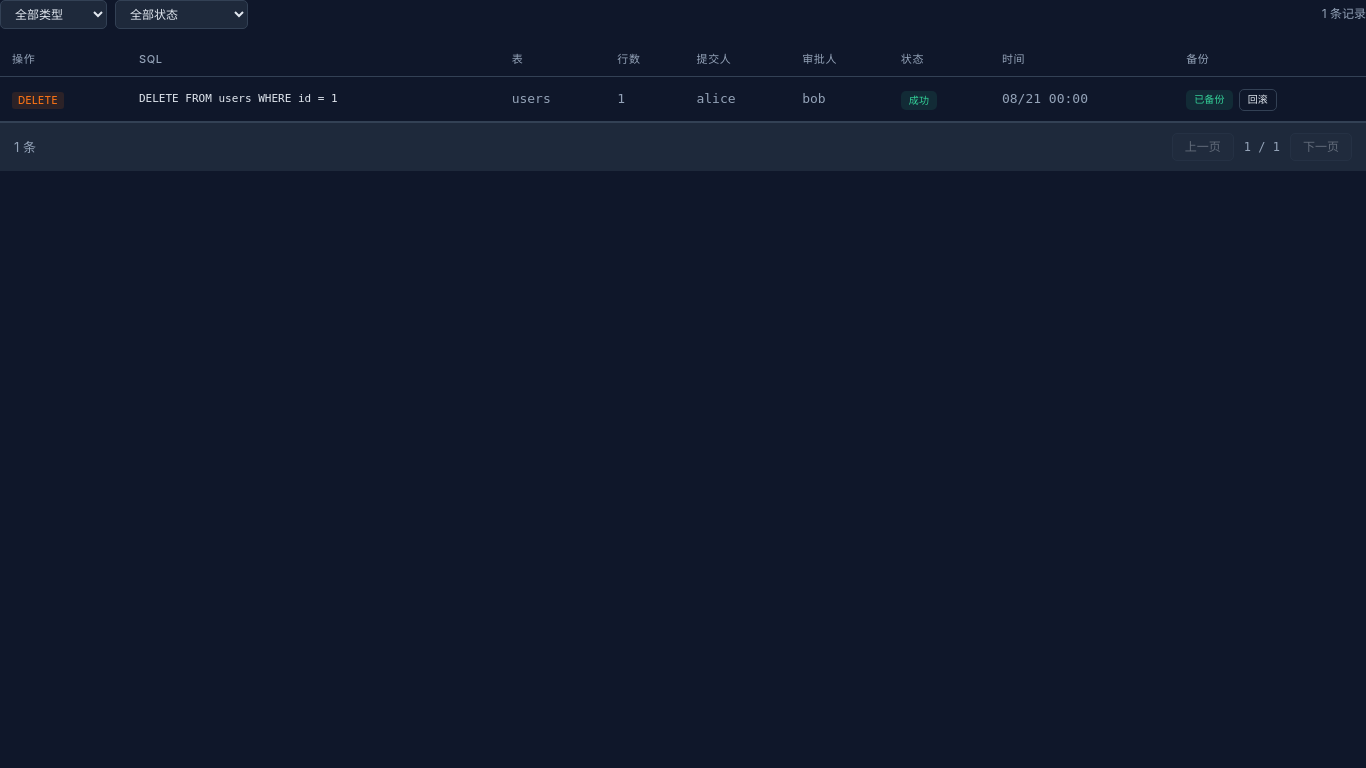
Test case: OperationLog rollback › does not report success when the reverse backup is missing
The image size is (1366, 768).
Click the button "回滚" at [1258, 100], box x1=1239 y1=89 x2=1277 y2=110
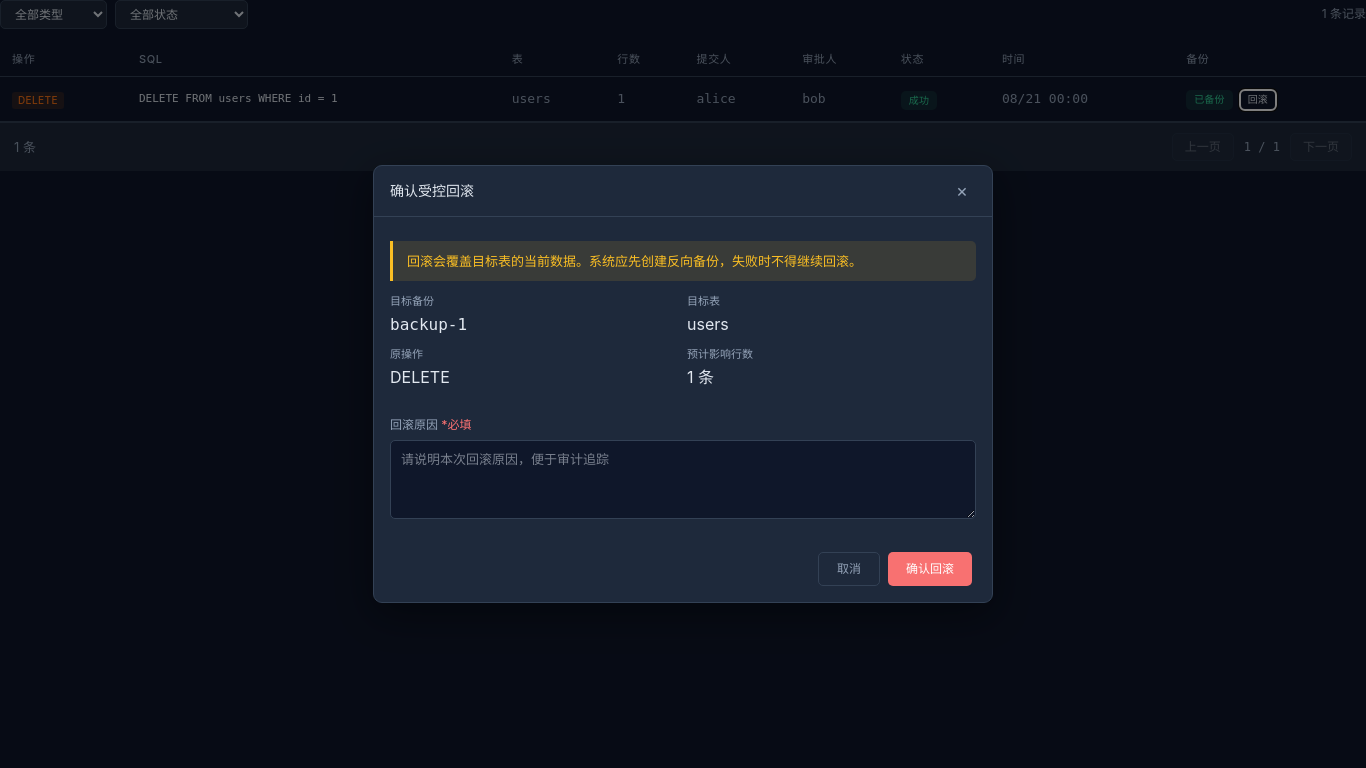
Type "发现错误数据" into the text box with placeholder "请说明本次回滚原因，便于审计追踪" at [683, 480], box x1=390 y1=440 x2=976 y2=519
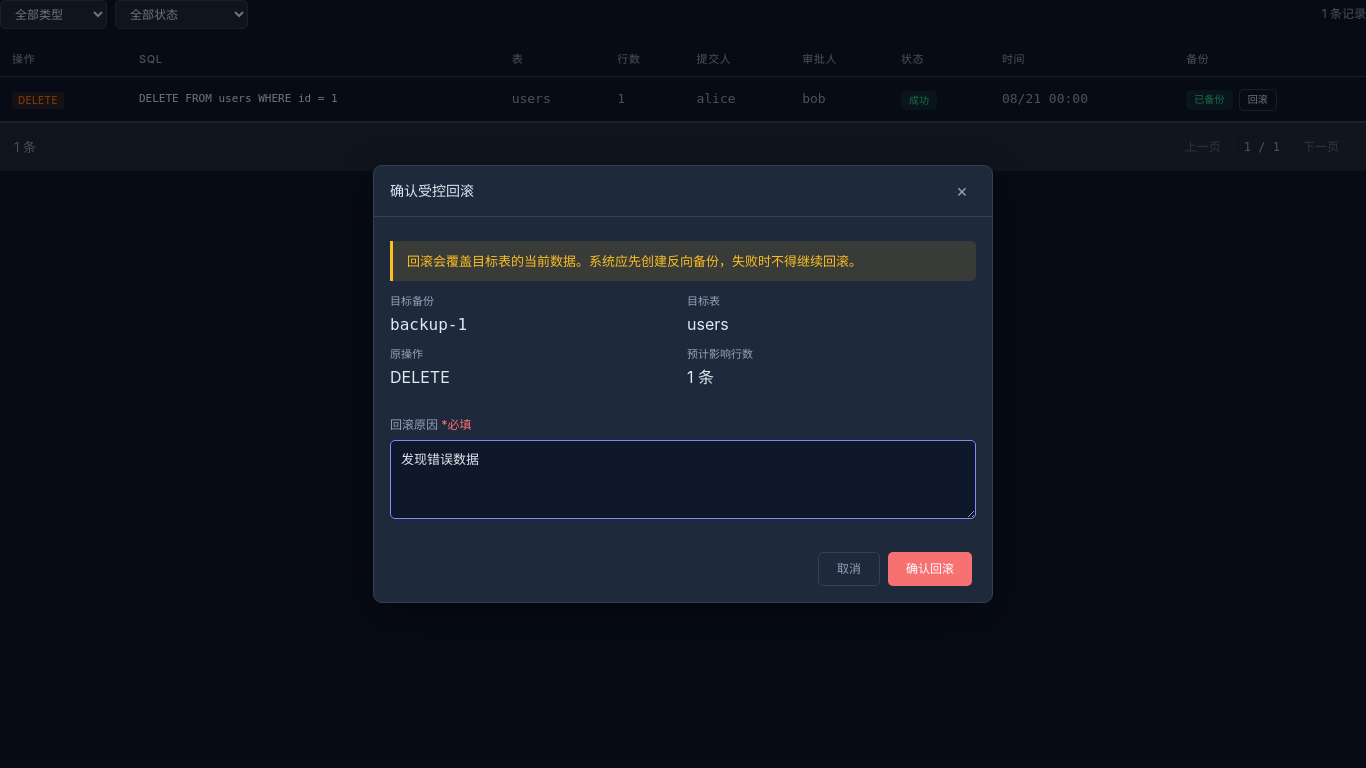
Click the button "确认回滚" at [930, 569], box x1=888 y1=552 x2=972 y2=586
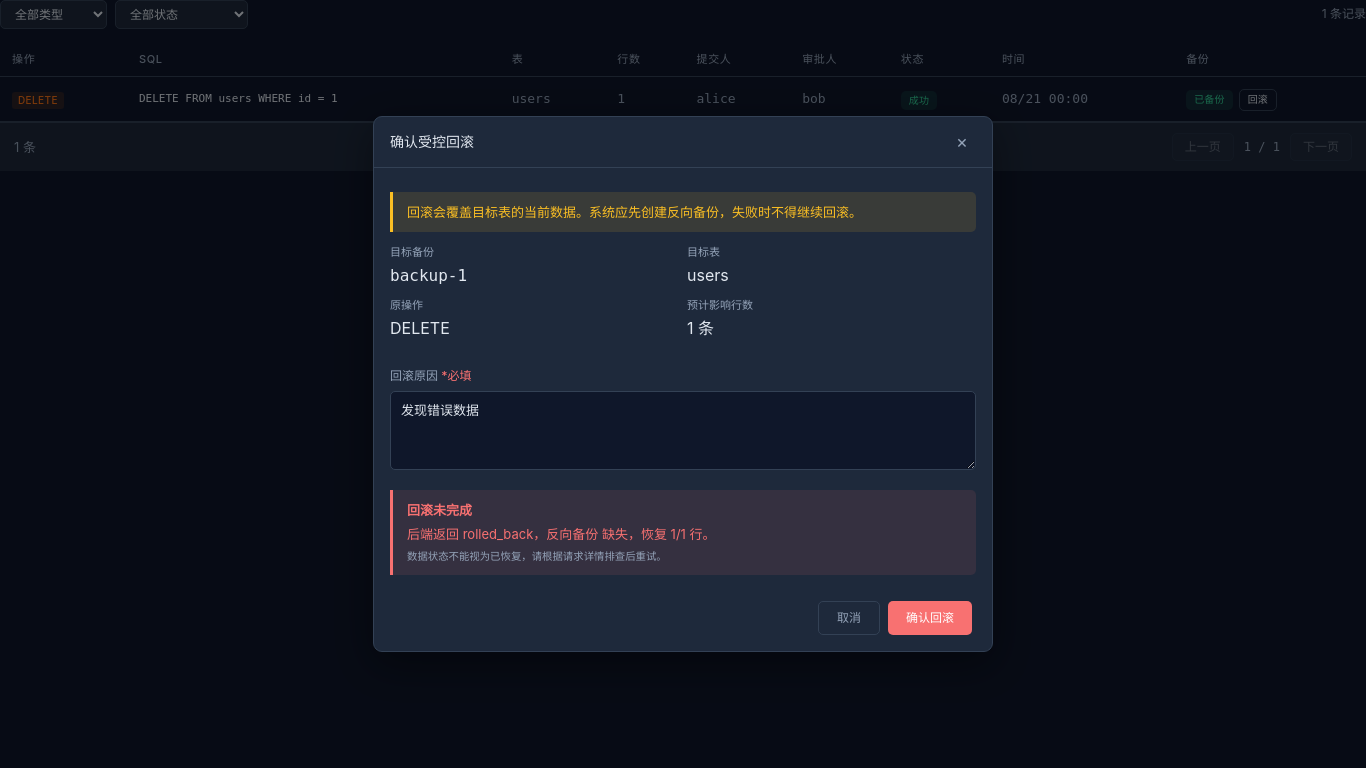
Now the text "回滚未完成" is shown, box x1=407 y1=502 x2=472 y2=518
Now the text "后端返回 rolled_back，反向备份 缺失，恢复 1/1 行。" is shown, box x1=407 y1=526 x2=716 y2=542
